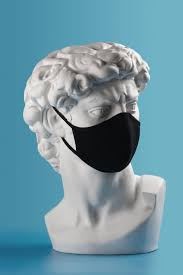mask: (39, 96, 154, 179)
